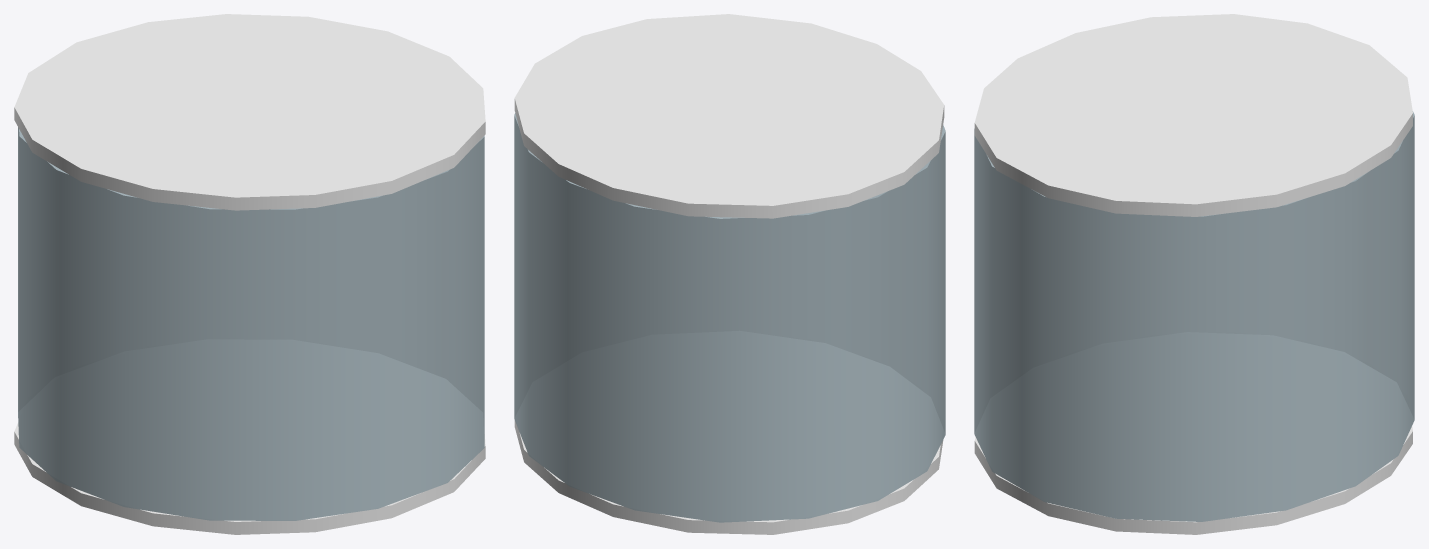
The model's file is car.fbx.
3 renders of one model, left to right at view 1: azimuth 30°, elevation 25°; view 2: azimuth 150°, elevation 25°; view 3: azimuth 270°, elevation 25°, orthographic. The views are drawn at different scales.
Visible parts, largest first — view 1: Glass, Object_1, Object_4; view 2: Glass, Object_1, Object_4; view 3: Glass, Object_1, Object_4.
Boxes of the visible parts, box(x1,y1,x2,y2) form: Glass: box(18, 127, 484, 520); Object_1: box(14, 14, 485, 210); Object_4: box(14, 422, 485, 534); Glass: box(514, 113, 945, 522); Object_1: box(514, 14, 944, 218); Object_4: box(514, 420, 943, 534); Glass: box(974, 111, 1414, 521); Object_1: box(974, 14, 1412, 216); Object_4: box(974, 426, 1412, 534).
Bounding box in the file's own units: 321 × 260 × 314.
